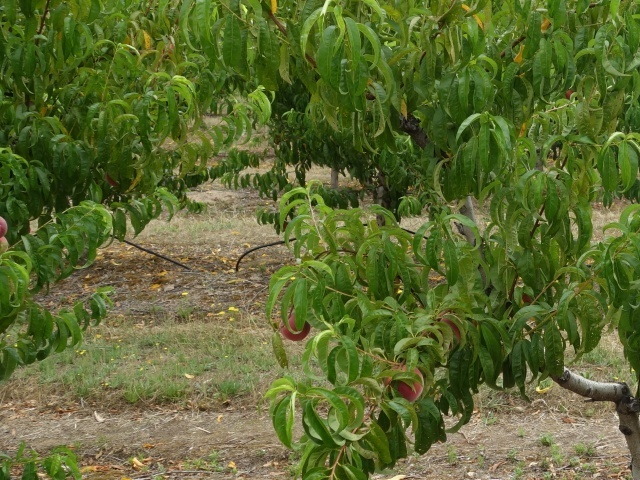peach: (382, 360, 427, 403), (277, 310, 314, 346)
